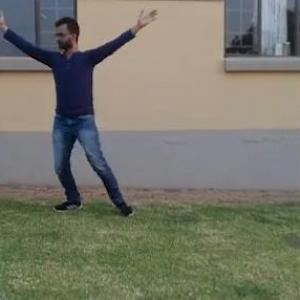takeoff: (0, 8, 158, 207)
